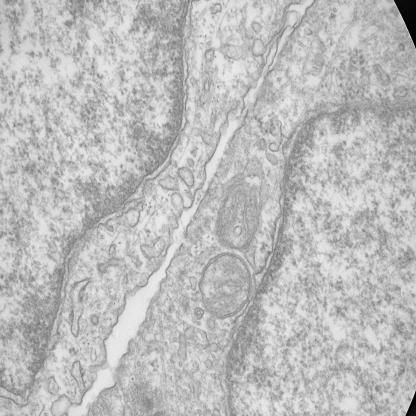mitochondria: (197, 254, 254, 320), (214, 179, 260, 251)
